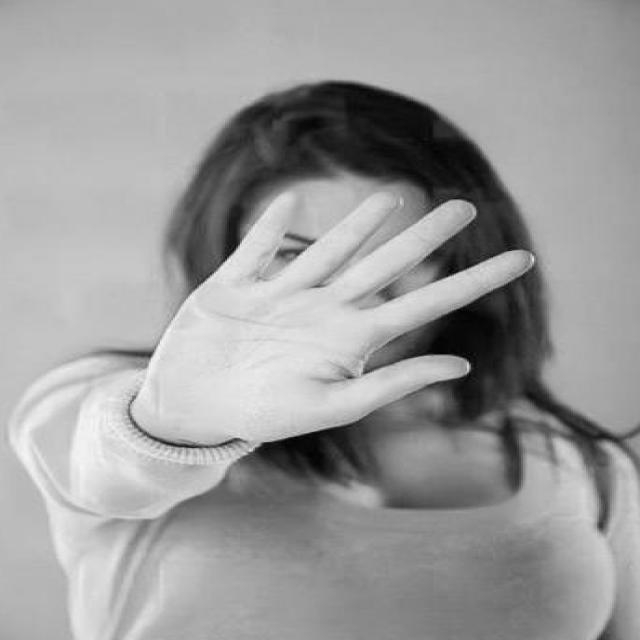stop: (136, 188, 545, 450)
